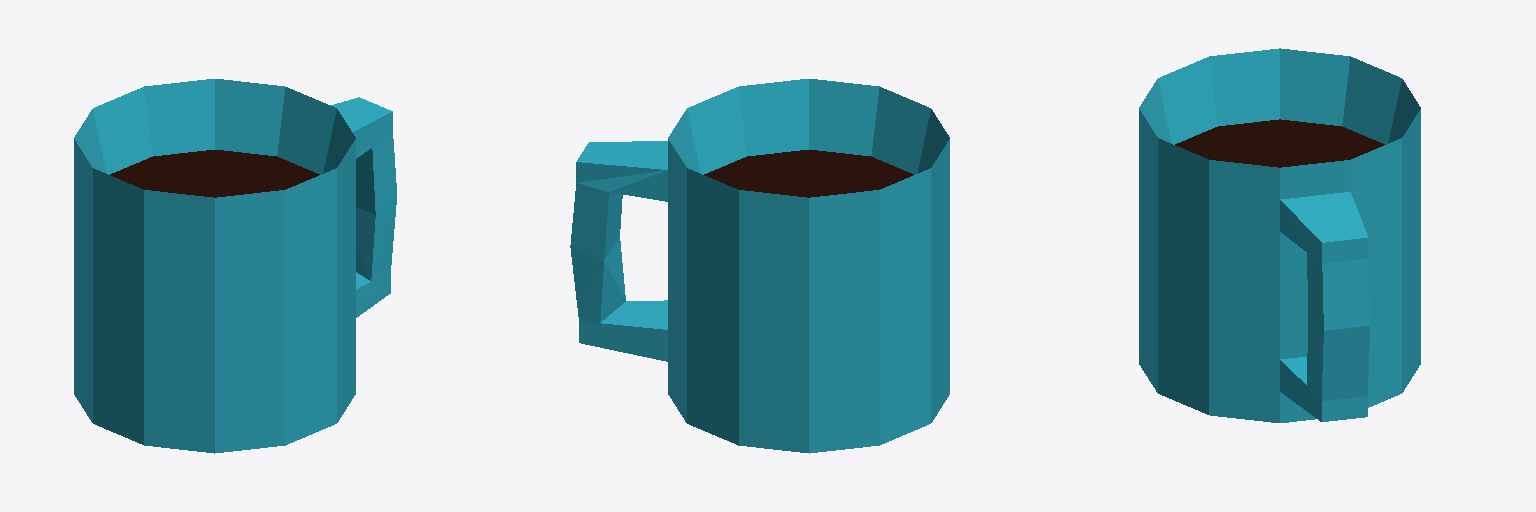
The picture shows the model from 3 angles: view 1: azimuth 30°, elevation 25°; view 2: azimuth 150°, elevation 25°; view 3: azimuth 270°, elevation 25°; orthographic projection.
Visible parts, largest first — view 1: group[number redacted]; view 2: group[number redacted]; view 3: group[number redacted].
Part boxes in pixels (bbox=[...]): group[number redacted]: bbox=[74, 79, 396, 453]; group[number redacted]: bbox=[570, 79, 949, 453]; group[number redacted]: bbox=[1139, 48, 1420, 422].
Bounding box in the file's own units: 0.3207 × 0.24 × 0.24.